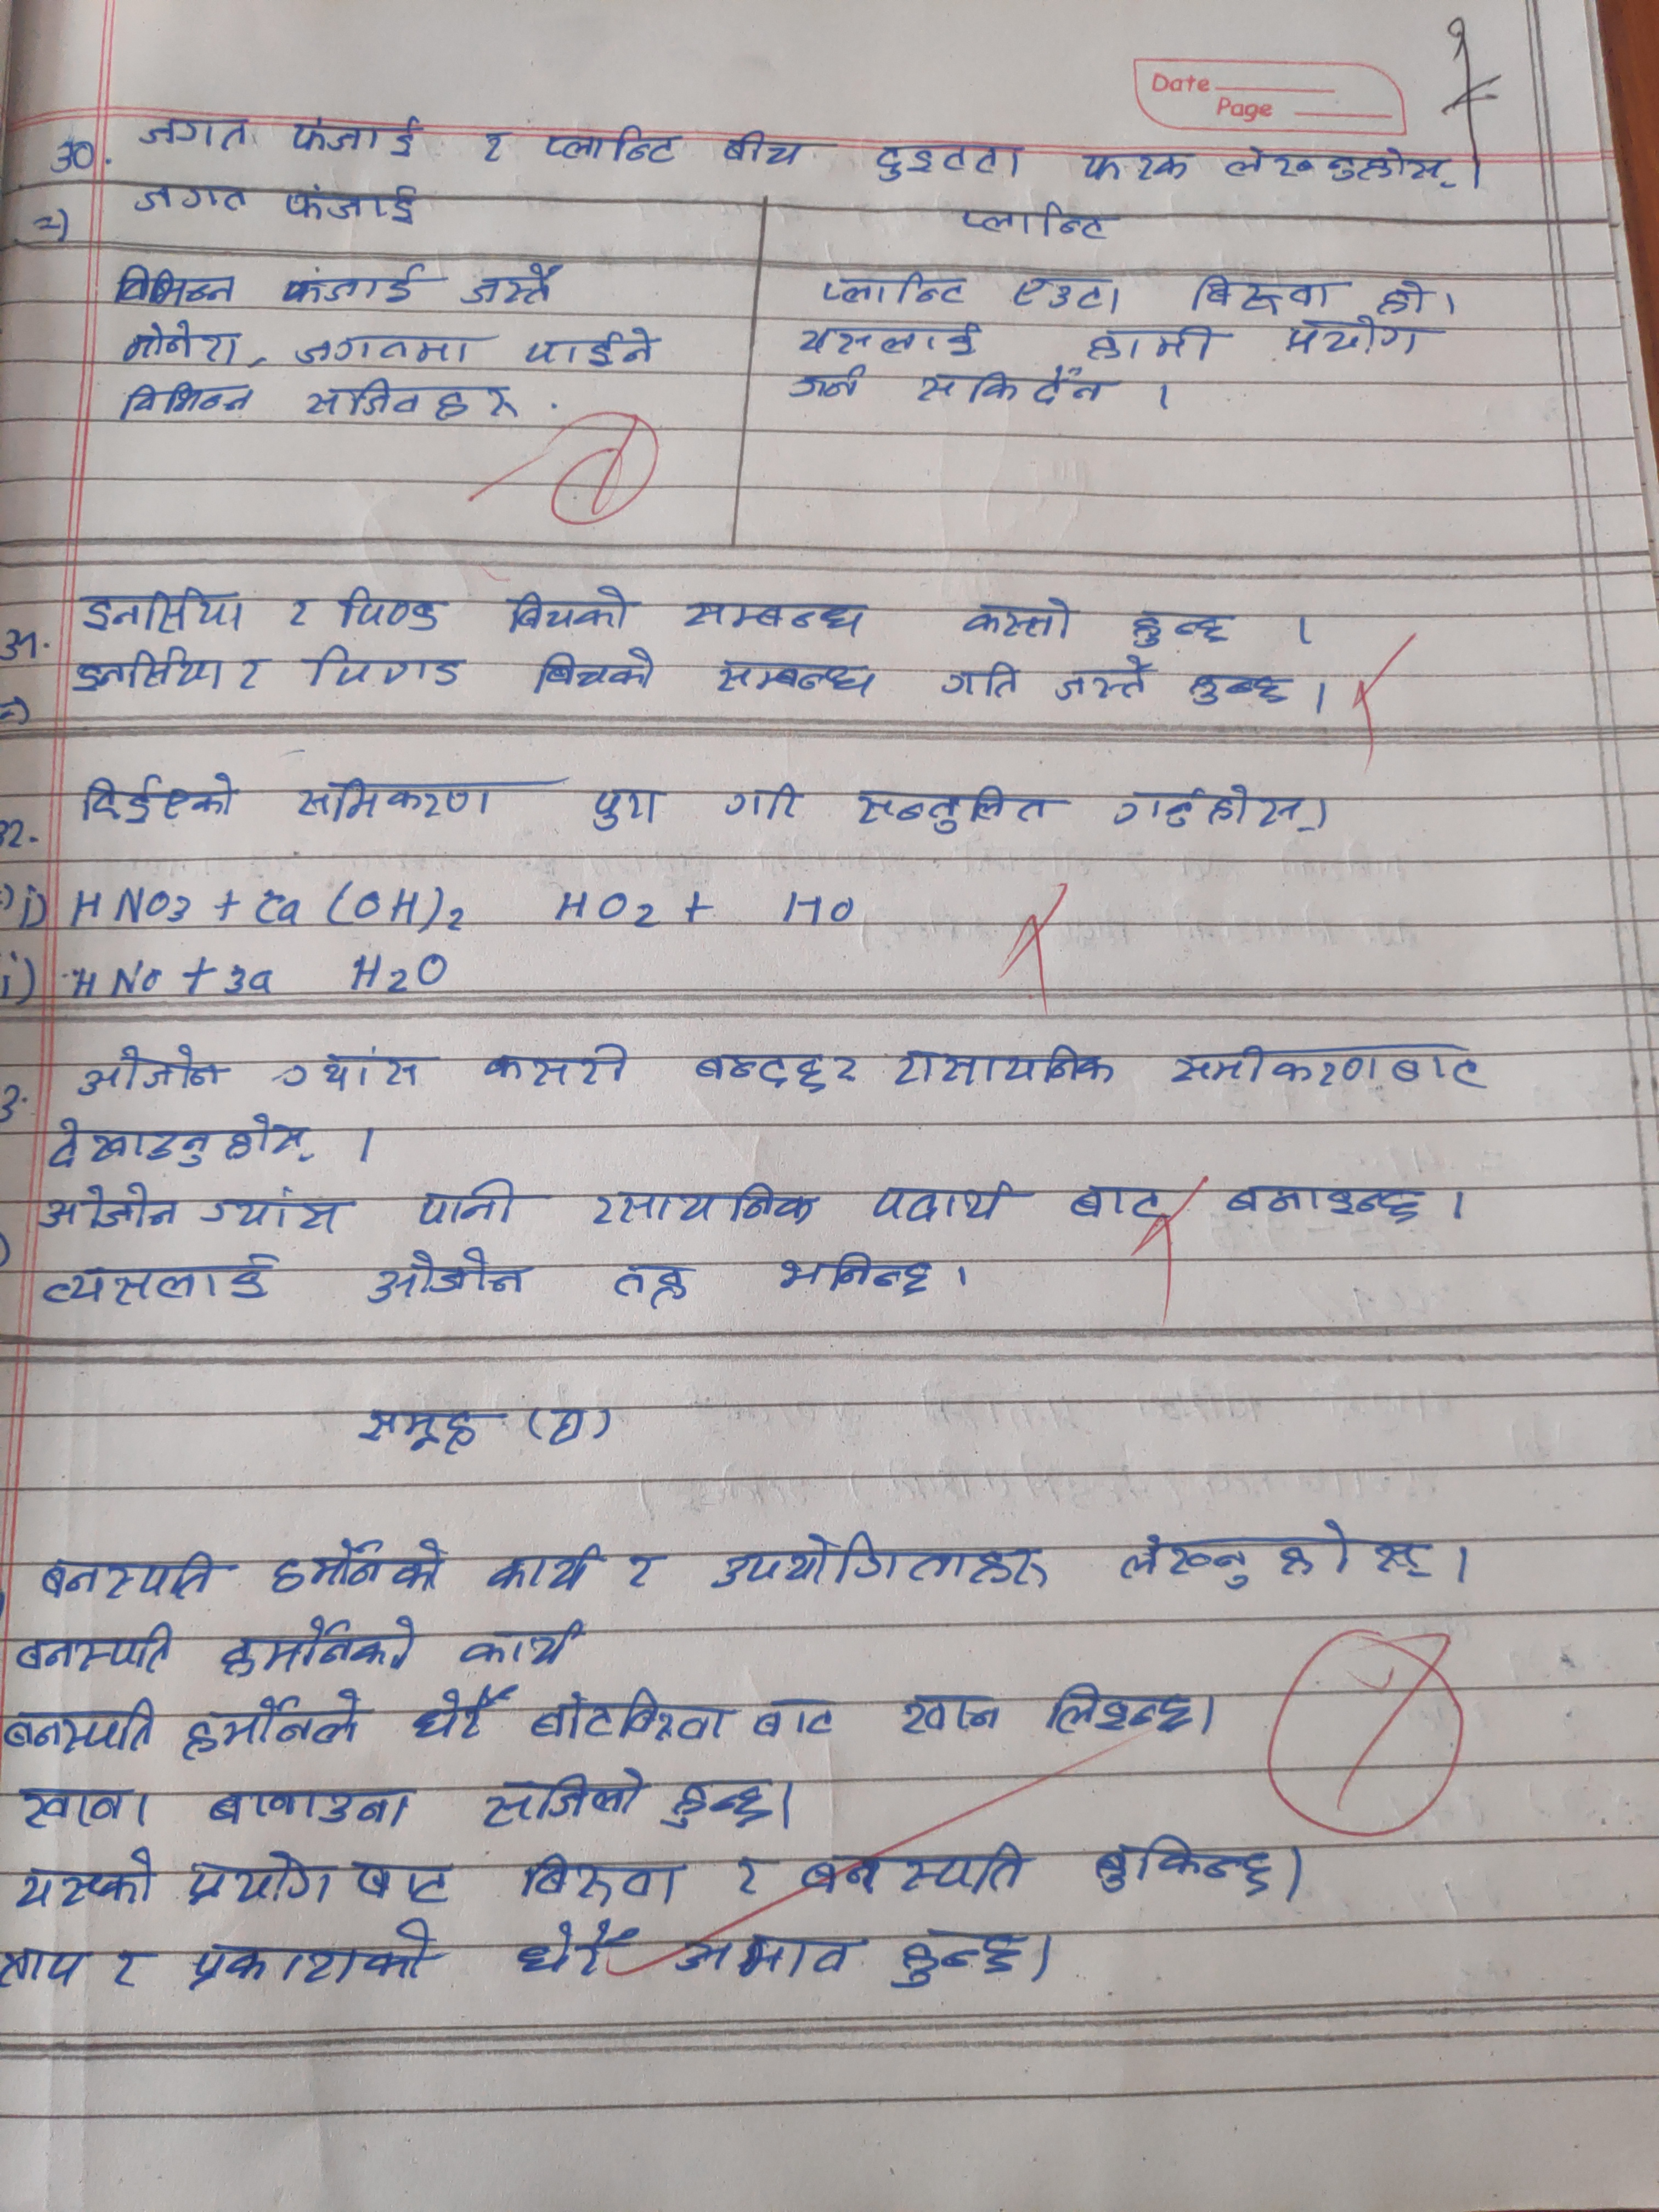text: (711, 1526, 1053, 1599), (1105, 1521, 1441, 1585), (1164, 1040, 1485, 1101), (185, 1919, 443, 1991), (183, 1846, 464, 1911), (47, 1111, 326, 1176), (1223, 134, 1464, 200), (33, 1251, 281, 1308), (171, 1689, 366, 1761), (798, 1841, 1044, 1897), (525, 1686, 734, 1750), (1089, 1834, 1279, 1904), (221, 1613, 425, 1677), (197, 1773, 413, 1832), (28, 1541, 220, 1608), (1108, 782, 1310, 845), (849, 780, 1056, 840), (892, 1036, 1117, 1090), (471, 1766, 648, 1834), (1218, 1176, 1434, 1231), (592, 1183, 823, 1235), (3, 1684, 157, 1763), (296, 381, 525, 434), (295, 770, 514, 824), (516, 1844, 694, 1907), (1044, 1676, 1195, 1749), (673, 1926, 859, 1986), (268, 1540, 453, 1599), (885, 1921, 1032, 1993), (3, 1846, 157, 1914), (683, 1043, 861, 1101), (915, 361, 1124, 408), (796, 312, 978, 366), (9, 1622, 179, 1677), (474, 1040, 634, 1099), (73, 1043, 232, 1103), (77, 772, 247, 826), (361, 1251, 532, 1305), (295, 326, 486, 373), (708, 651, 885, 702), (12, 1775, 153, 1838), (678, 594, 871, 639), (512, 1914, 641, 1982), (73, 585, 256, 632), (451, 1611, 592, 1672), (486, 1533, 610, 1601), (871, 1169, 1007, 1230), (774, 1247, 934, 1298), (35, 1181, 185, 1235), (870, 132, 1028, 183), (305, 639, 464, 690), (193, 1190, 350, 1240), (540, 113, 687, 167), (279, 106, 420, 162), (279, 258, 430, 308), (279, 178, 425, 230), (66, 646, 228, 693), (812, 263, 972, 310), (955, 204, 1126, 247), (537, 641, 666, 698), (1060, 1172, 1176, 1235), (272, 1045, 432, 1090), (523, 322, 664, 373), (120, 317, 246, 373), (345, 1404, 498, 1449), (415, 1176, 535, 1233), (1185, 270, 1344, 314), (504, 585, 640, 636), (955, 587, 1077, 643), (406, 1679, 505, 1747), (1087, 317, 1230, 364), (1284, 317, 1427, 364), (331, 580, 448, 637), (892, 1686, 1006, 1745), (119, 374, 260, 421), (657, 1775, 774, 1829), (1077, 138, 1199, 188), (110, 261, 244, 307), (127, 178, 251, 226), (462, 258, 568, 312), (0, 1937, 85, 2003), (599, 1249, 695, 1306), (1004, 275, 1124, 320), (134, 111, 258, 155), (1127, 601, 1237, 650), (1185, 664, 1293, 712), (1056, 662, 1162, 709), (721, 125, 819, 172), (932, 653, 1025, 702), (587, 780, 666, 836), (748, 1698, 842, 1743), (716, 782, 810, 824), (99, 1939, 153, 1998), (788, 368, 868, 404), (1377, 272, 1434, 322), (721, 1846, 769, 1907), (617, 1550, 669, 1599), (228, 651, 270, 700)
